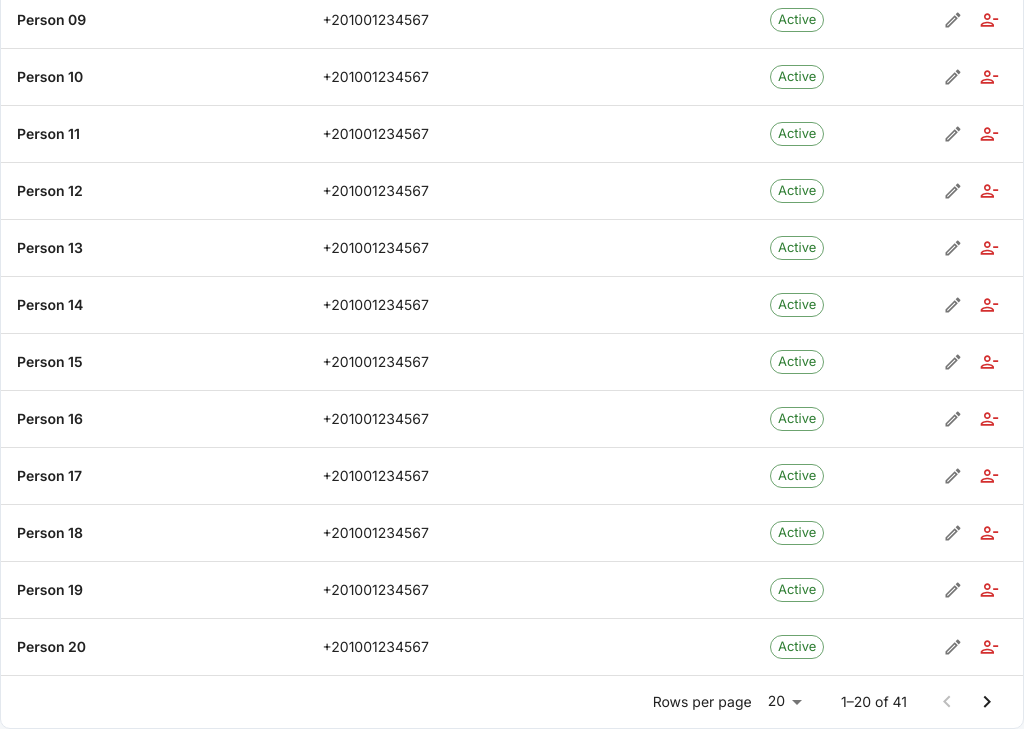
staff list: paging @area:admin › a page past the end (its last row removed) moves to the last page, never "no match" meanwhile @ADM-242
(page scrolled)
Click the button named "Go to next page" at point(987, 702), box [967,682,1007,722]
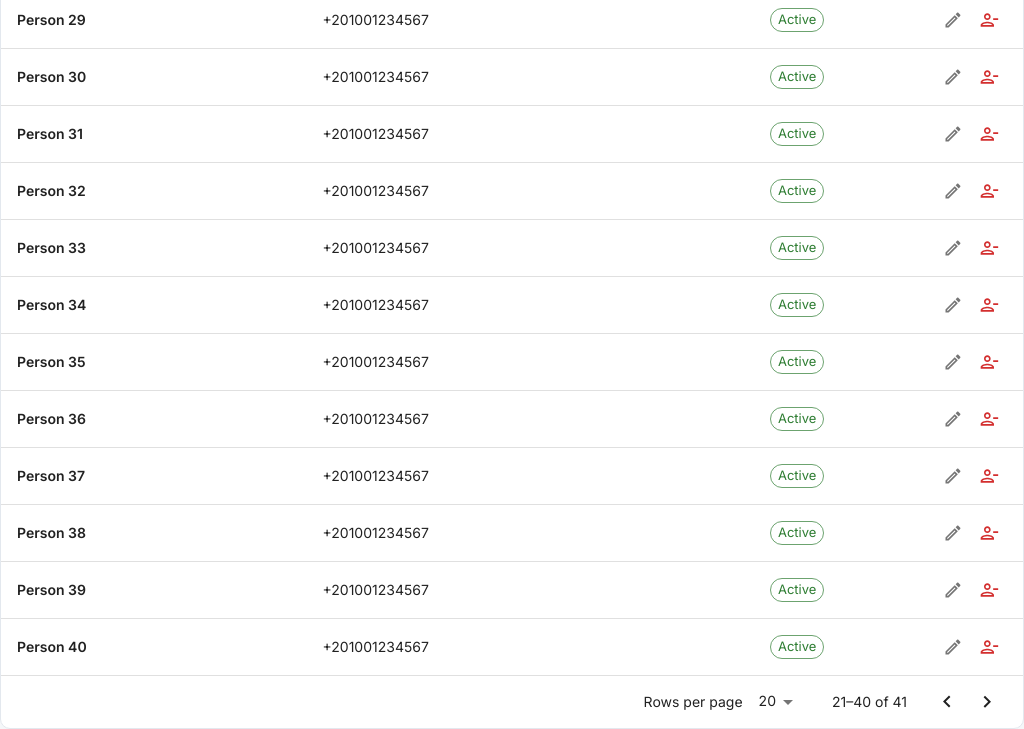
Click the button named "Go to next page" at point(987, 702), box [967,682,1007,722]
(page scrolled)
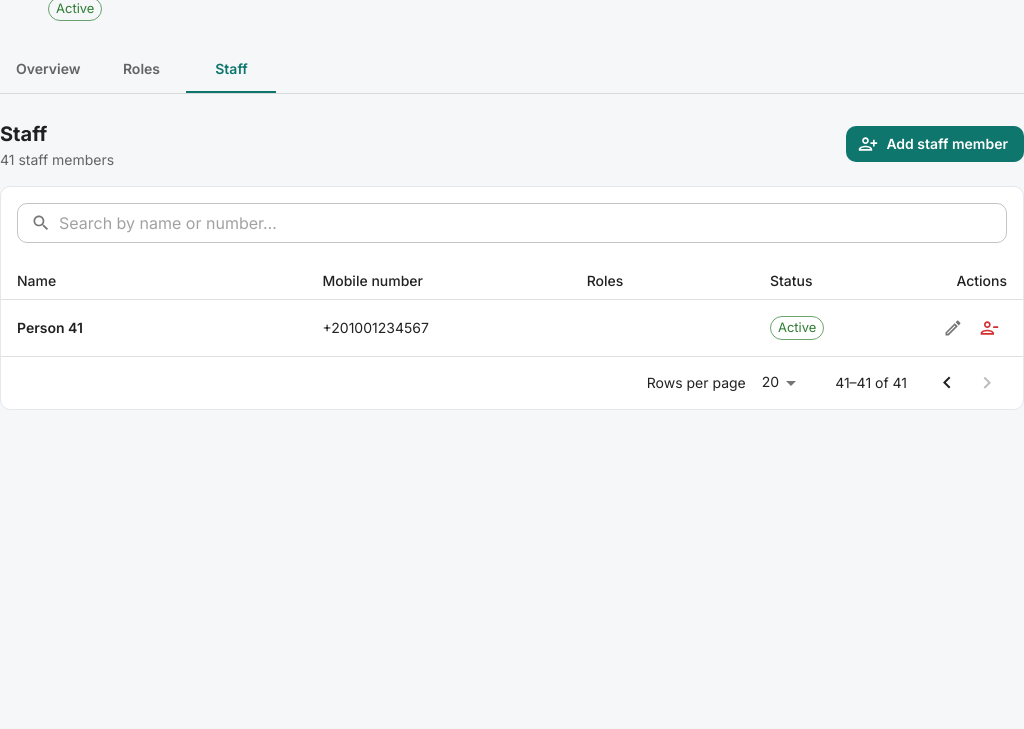
expect the text "Person 41" is shown: met, box [17,319,83,336]
Click the button named "Remove “ Person 41 ”" at point(989, 328), box [971,310,1007,346]
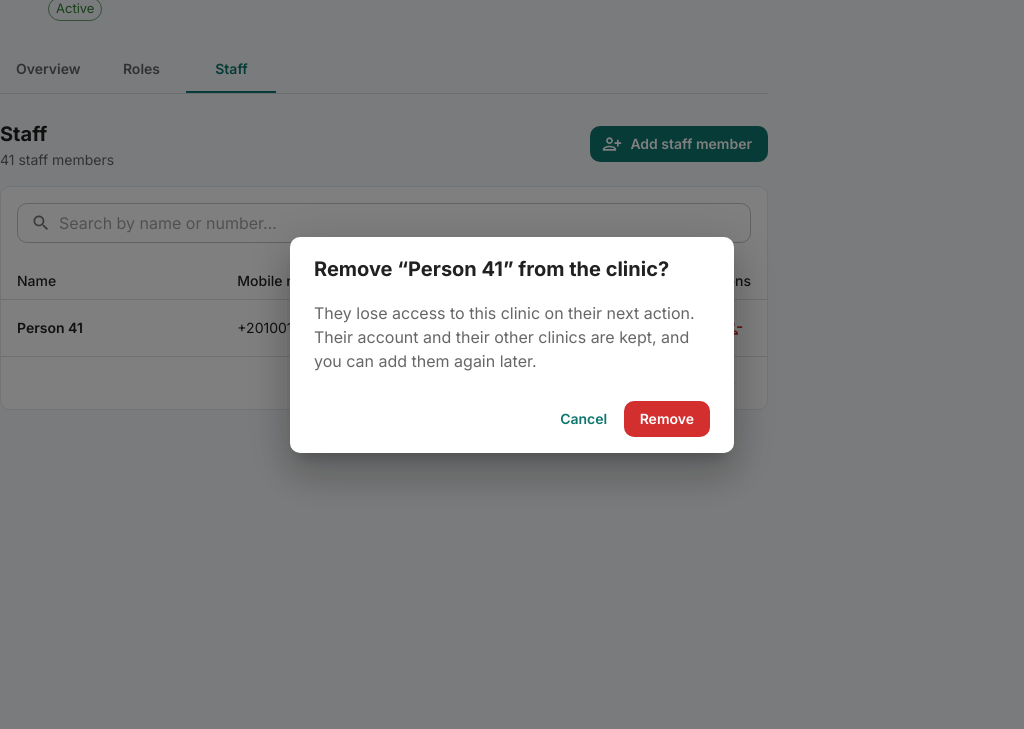
Click the button "Remove" at point(667, 419), box [624,401,710,437]
(page scrolled)
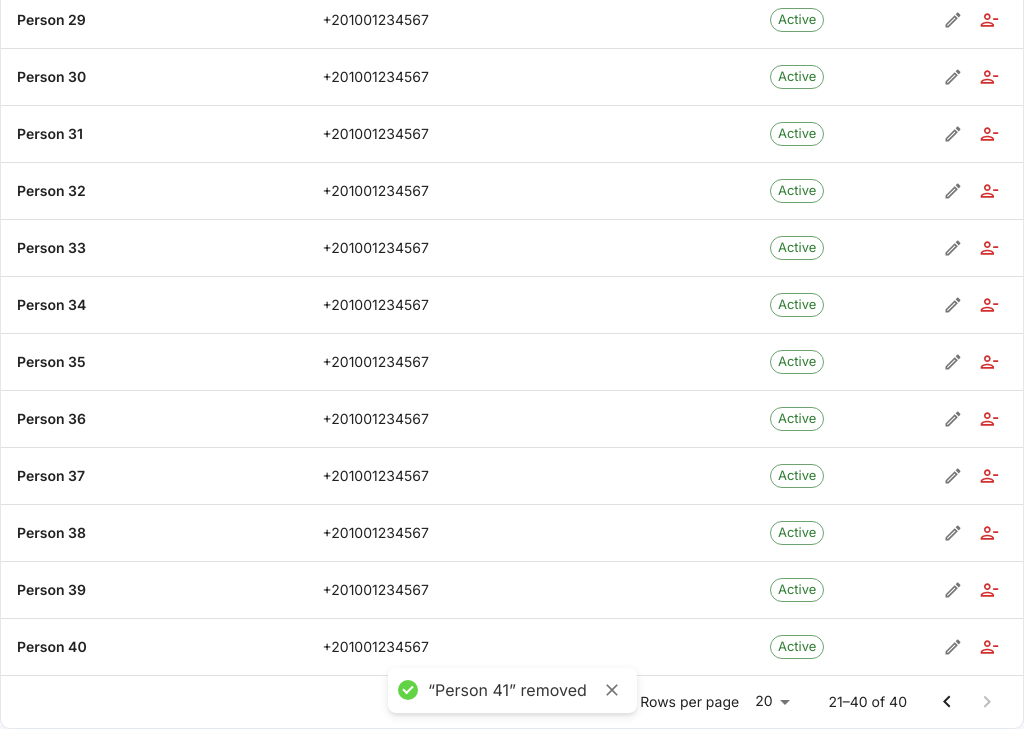
expect the text "Person 40" is shown: met, box [17,638,87,655]
expect the text "21–40 of 40" is shown: met, box [829,692,907,712]
